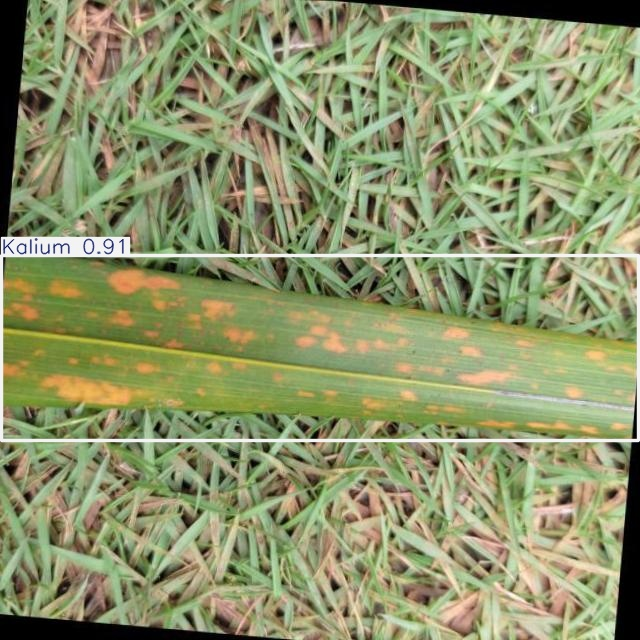Kalium: (2, 256, 638, 440)
